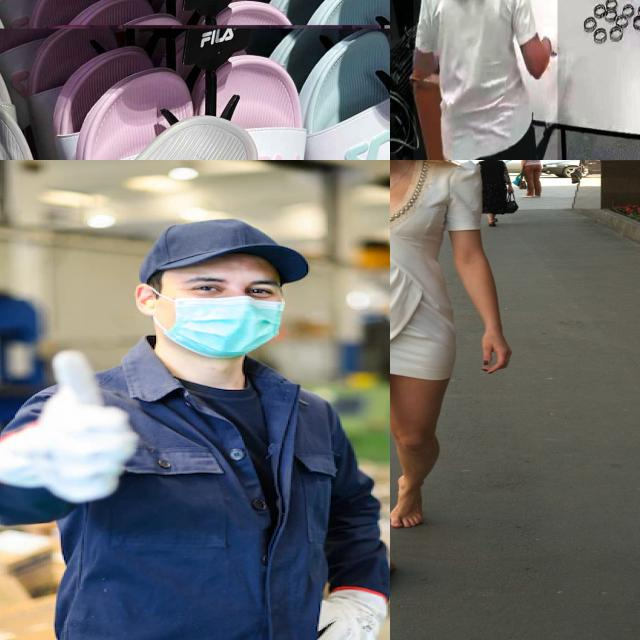Barefoots: (390, 475, 423, 527)
No_Ear-Protection: (129, 285, 164, 315)
No_Glasses: (179, 276, 284, 307)
Sandals: (0, 93, 386, 160)
face_mask: (154, 289, 285, 358)
hand_glove: (0, 349, 137, 503), (319, 589, 385, 640)
head_nohelmet: (139, 219, 308, 283)
person: (413, 0, 558, 160)
